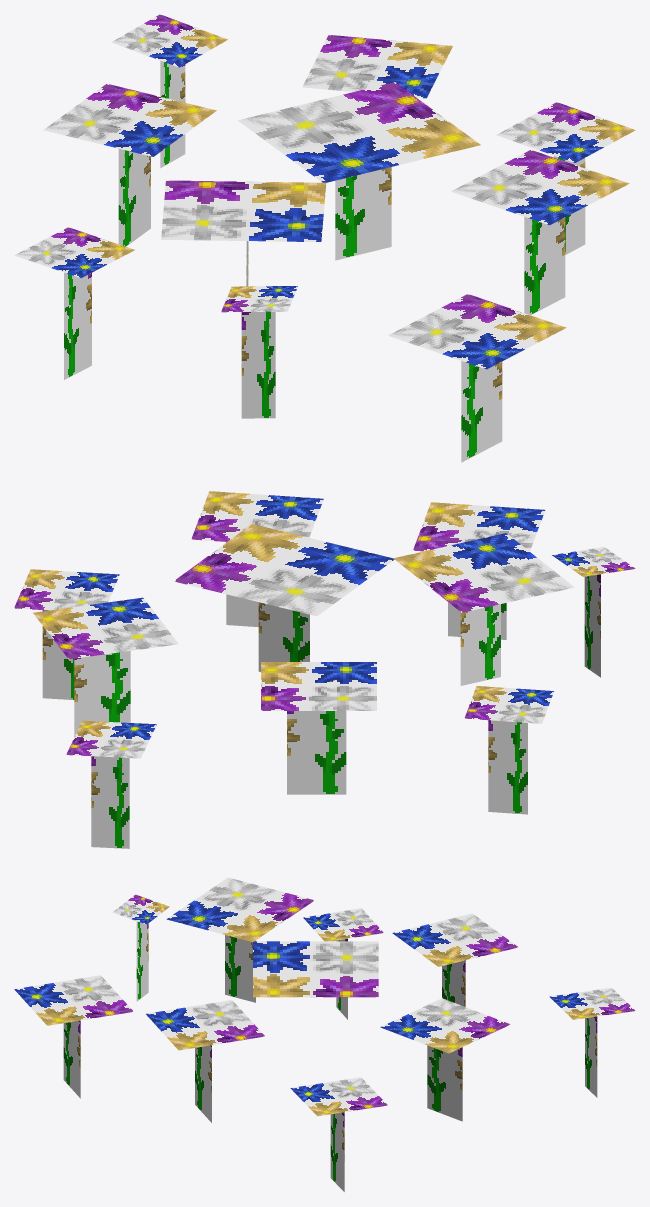
Rendered from flowers09.obj.
The picture shows the model from 3 angles, top to bottom: view 1: azimuth 30°, elevation 25°; view 2: azimuth 150°, elevation 25°; view 3: azimuth 270°, elevation 25°; orthographic projection. The views are drawn at different scales.
Visible parts, largest first — view 1: Box01, Duplicate12, Duplicate09, Duplicate06, Duplicate14, Duplicate08, Duplicate10, Duplicate07, Duplicate13, Duplicate11, Box02; view 2: Box01, Duplicate14, Duplicate06, Duplicate08, Duplicate10, Duplicate11, Duplicate09, Duplicate13, Duplicate12, Duplicate07, Box02; view 3: Box01, Duplicate14, Duplicate08, Duplicate12, Duplicate09, Duplicate06, Duplicate13, Duplicate11, Duplicate10, Duplicate07.
Part boxes in pixels (left/top/right/bottom): Box01: left=238, top=82, right=480, bottom=182; Duplicate12: left=388, top=294, right=566, bottom=462; Duplicate09: left=451, top=150, right=629, bottom=315; Duplicate06: left=43, top=83, right=216, bottom=246; Duplicate14: left=161, top=180, right=326, bottom=286; Duplicate08: left=302, top=35, right=452, bottom=98; Duplicate10: left=14, top=227, right=134, bottom=379; Duplicate07: left=221, top=286, right=297, bottom=418; Duplicate13: left=496, top=102, right=635, bottom=254; Duplicate11: left=111, top=14, right=227, bottom=168; Box02: left=335, top=167, right=391, bottom=260; Box01: left=174, top=524, right=394, bottom=616; Duplicate14: left=393, top=533, right=574, bottom=685; Duplicate06: left=261, top=662, right=376, bottom=794; Duplicate08: left=33, top=597, right=178, bottom=736; Duplicate10: left=464, top=686, right=554, bottom=814; Duplicate11: left=66, top=720, right=156, bottom=848; Duplicate09: left=191, top=491, right=323, bottom=627; Duplicate13: left=14, top=569, right=119, bottom=699; Duplicate12: left=413, top=502, right=545, bottom=639; Duplicate07: left=552, top=547, right=635, bottom=677; Box02: left=258, top=602, right=309, bottom=671; Box01: left=253, top=941, right=378, bottom=997; Duplicate14: left=166, top=877, right=314, bottom=1002; Duplicate08: left=380, top=998, right=510, bottom=1121; Duplicate12: left=14, top=975, right=133, bottom=1098; Duplicate09: left=146, top=1000, right=264, bottom=1122; Duplicate06: left=392, top=913, right=518, bottom=1006; Duplicate13: left=290, top=1077, right=387, bottom=1191; Duplicate11: left=549, top=987, right=635, bottom=1097; Duplicate10: left=303, top=908, right=383, bottom=1019; Duplicate07: left=112, top=894, right=169, bottom=1001.
Bounding box in the file's own units: 65.72 × 20.08 × 82.02.
